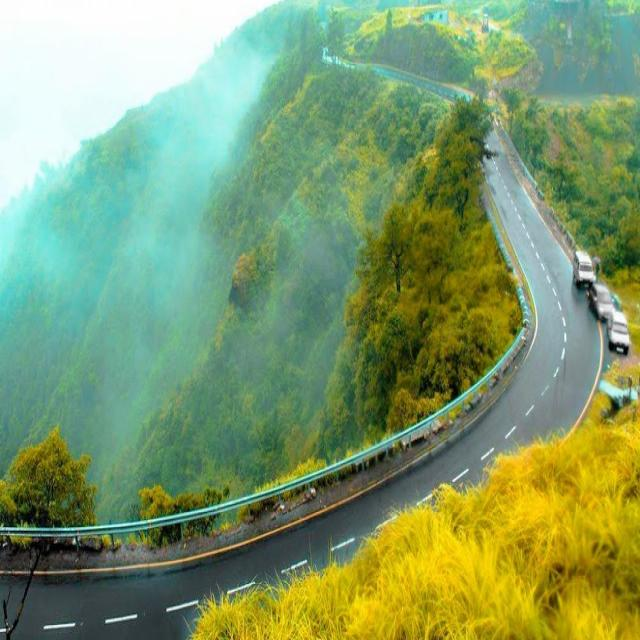Clean road: (0, 263, 621, 640)
